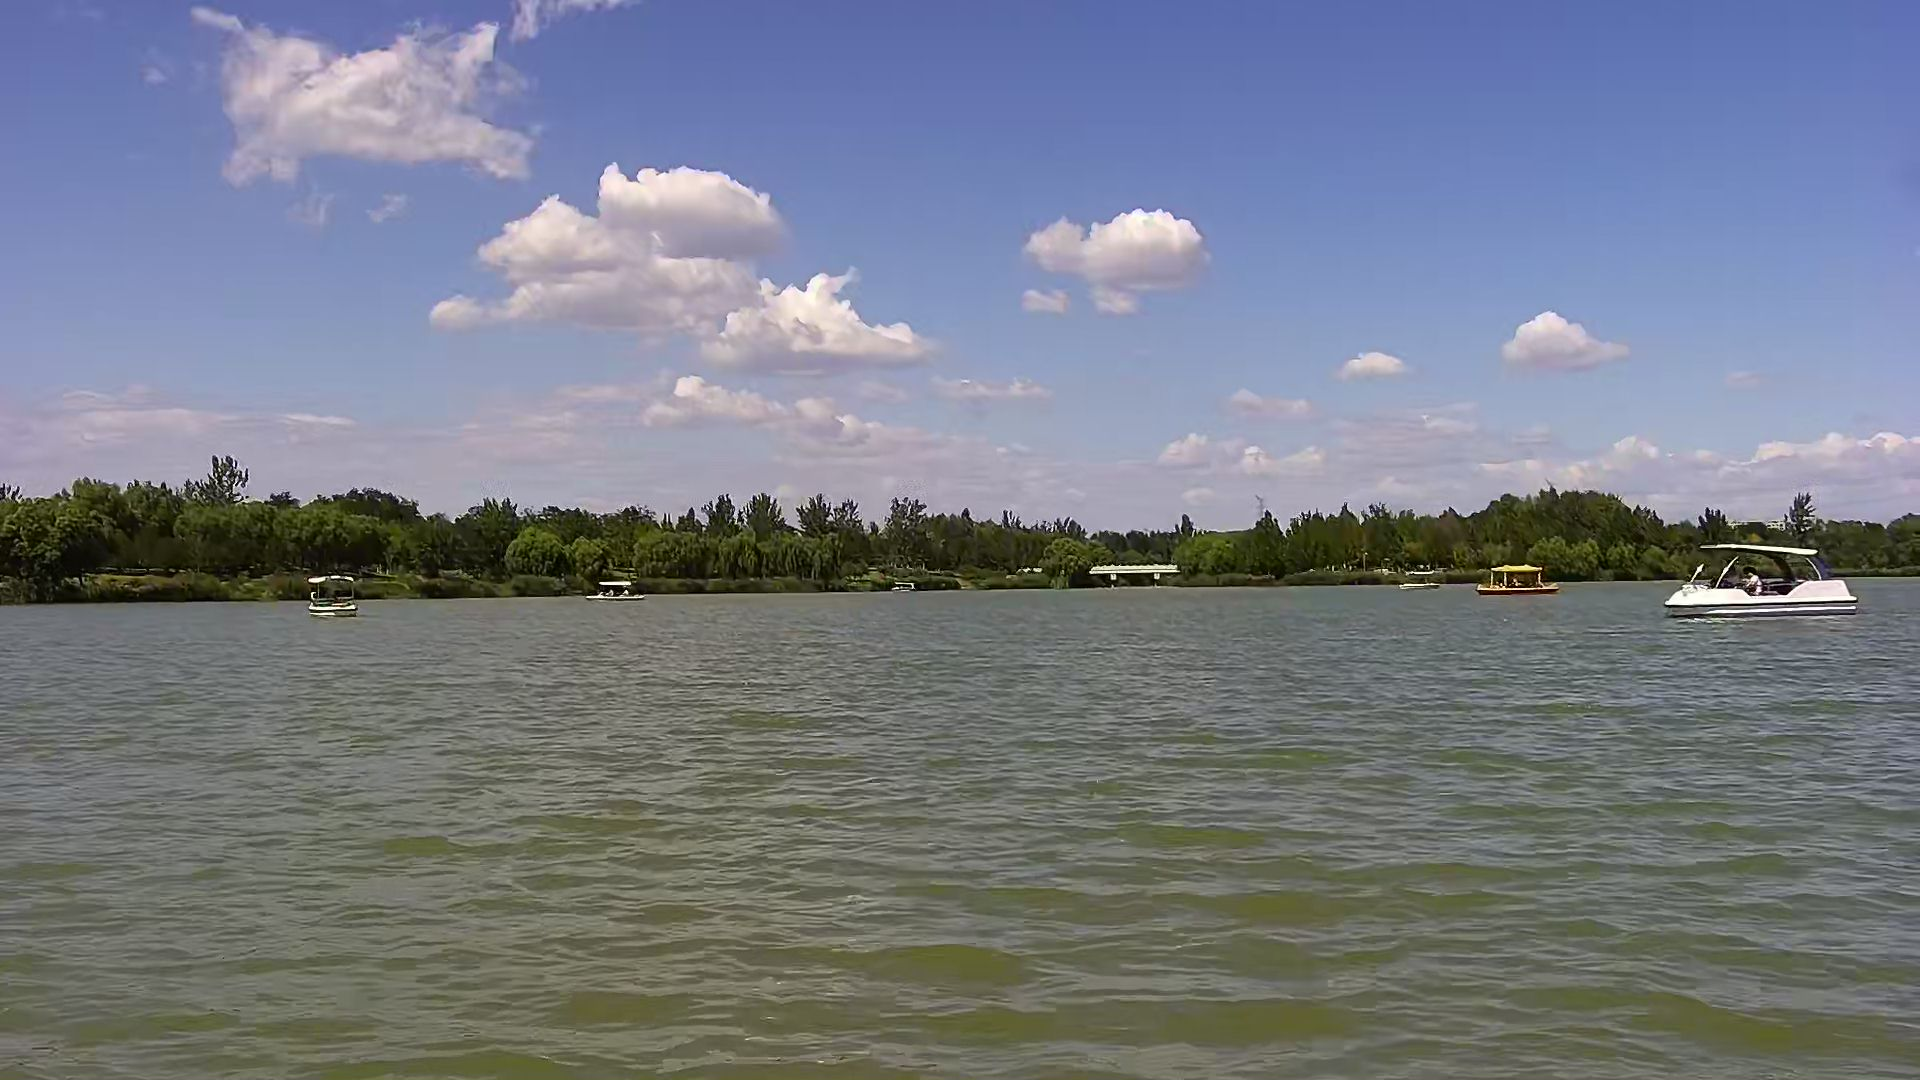boat: (1664, 539, 1859, 624), (303, 572, 355, 618), (1476, 567, 1556, 593), (585, 578, 638, 600), (1396, 567, 1437, 585)
bridge: (1091, 560, 1175, 585)
